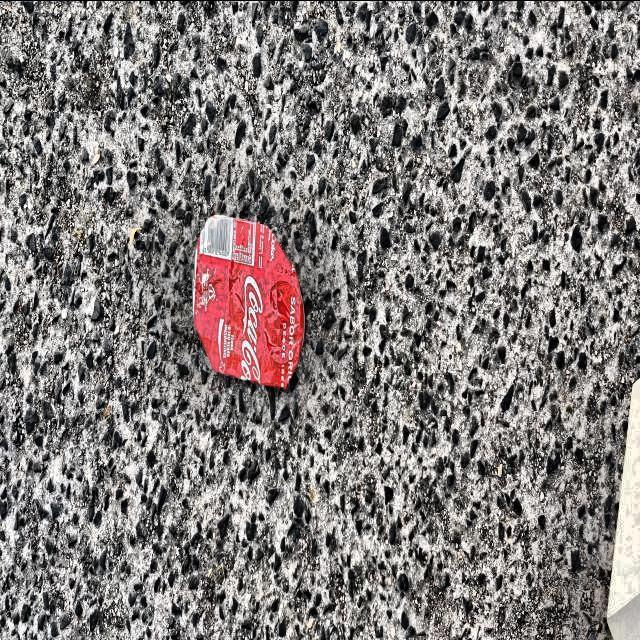metal: (192, 216, 306, 392)
